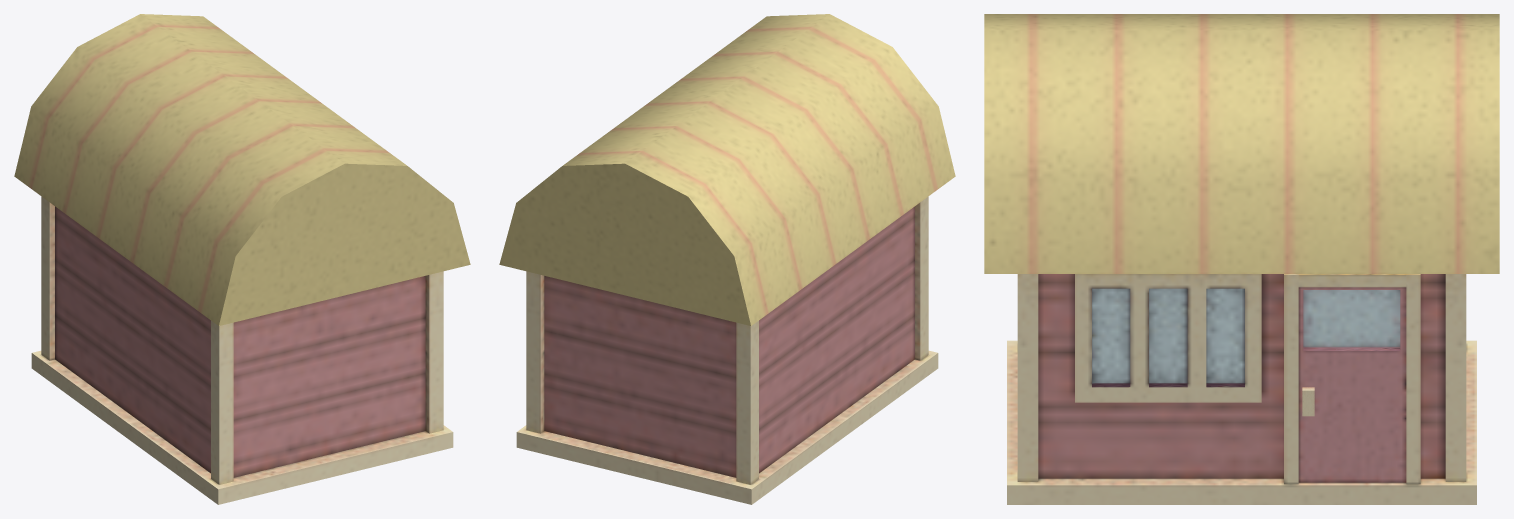
File: coffeeshop3 (1).fbx
The picture shows the model from 3 angles, left to right: view 1: azimuth 30°, elevation 25°; view 2: azimuth 150°, elevation 25°; view 3: azimuth 270°, elevation 25°; orthographic projection. The views are drawn at different scales.
Visible parts, largest first — view 1: poignee; view 2: poignee; view 3: poignee.
Part boxes in pixels (x1,y1,x2,y2): poignee: [14, 14, 470, 504]; poignee: [499, 14, 955, 504]; poignee: [984, 14, 1499, 504].
Bounding box in the file's own units: 426 × 517 × 600.
